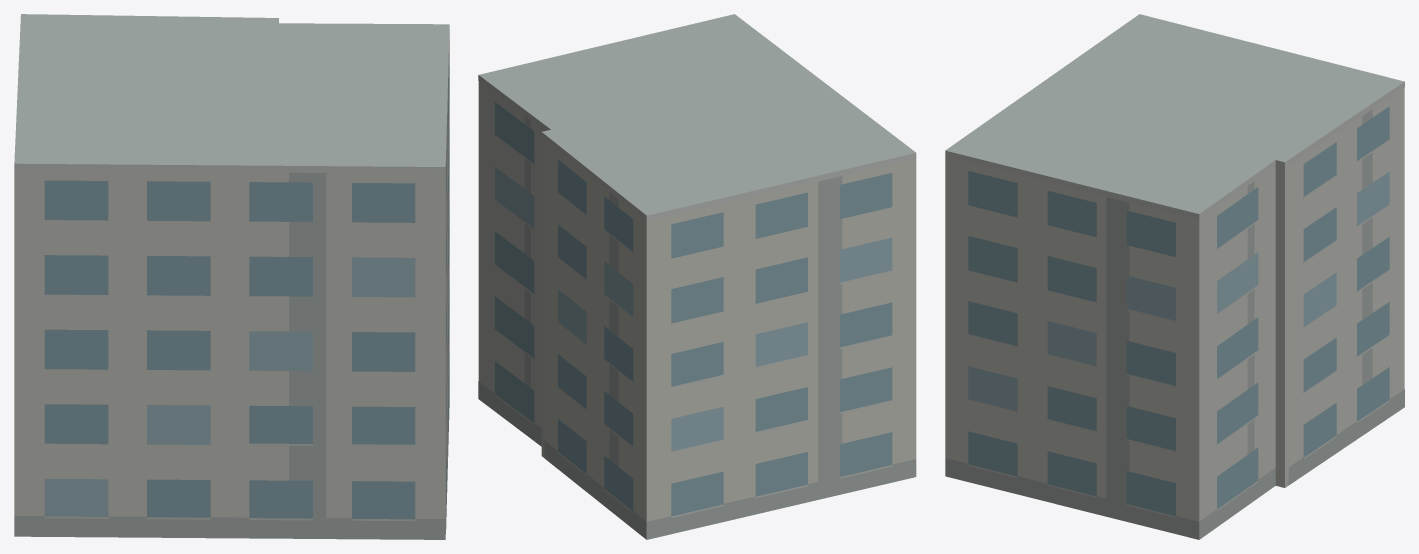
Rendered from survey-upis-32851947.glb.
3 views of the same model, side by side, from view 1: azimuth 30°, elevation 25°; view 2: azimuth 150°, elevation 25°; view 3: azimuth 270°, elevation 25° (orthographic). The views are drawn at different scales.
Visible parts, largest first — view 1: survey-upis-32851947.tmp; view 2: survey-upis-32851947.tmp; view 3: survey-upis-32851947.tmp.
Part boxes in pixels (x1,y1,x2,y2): survey-upis-32851947.tmp: [14, 14, 449, 539]; survey-upis-32851947.tmp: [478, 14, 916, 539]; survey-upis-32851947.tmp: [945, 14, 1404, 539].
Size of the model in its own units: 17.4 by 13.2 by 16.88.
